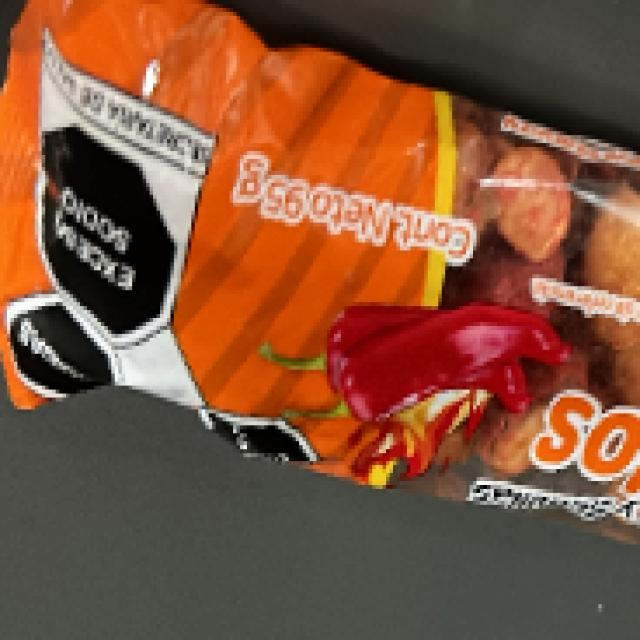bitzEnchilado95: (19, 8, 640, 491)
